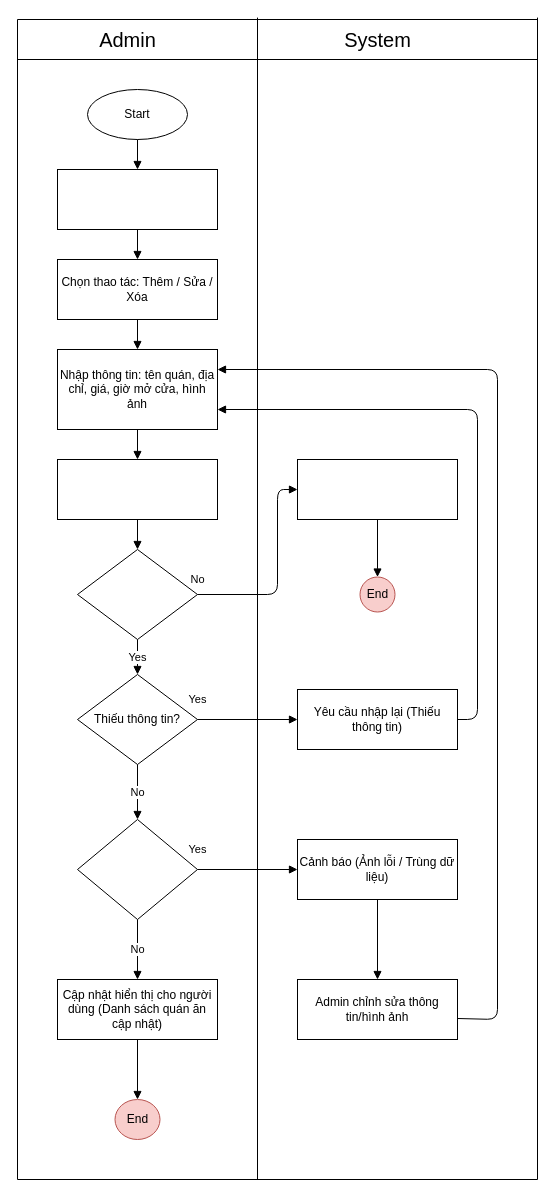
Image size: 556x1198. Some labels were removed from this diagram. The shapes that lost their labels are listed below. From the top down, each one's centre as x and y in pixels, then its label:
At pixel 137 199: "Admin mở module “Quản lý dữ liệu quán ăn”".
At pixel 137 489: "System xác thực và lưu dữ liệu".
At pixel 377 489: "Hiển thị lỗi: Không kết nối được cơ sở dữ liệu".
At pixel 137 594: "Kết nối DB OK?".
At pixel 137 869: "Ảnh lỗi hoặc trùng dữ liệu?".
